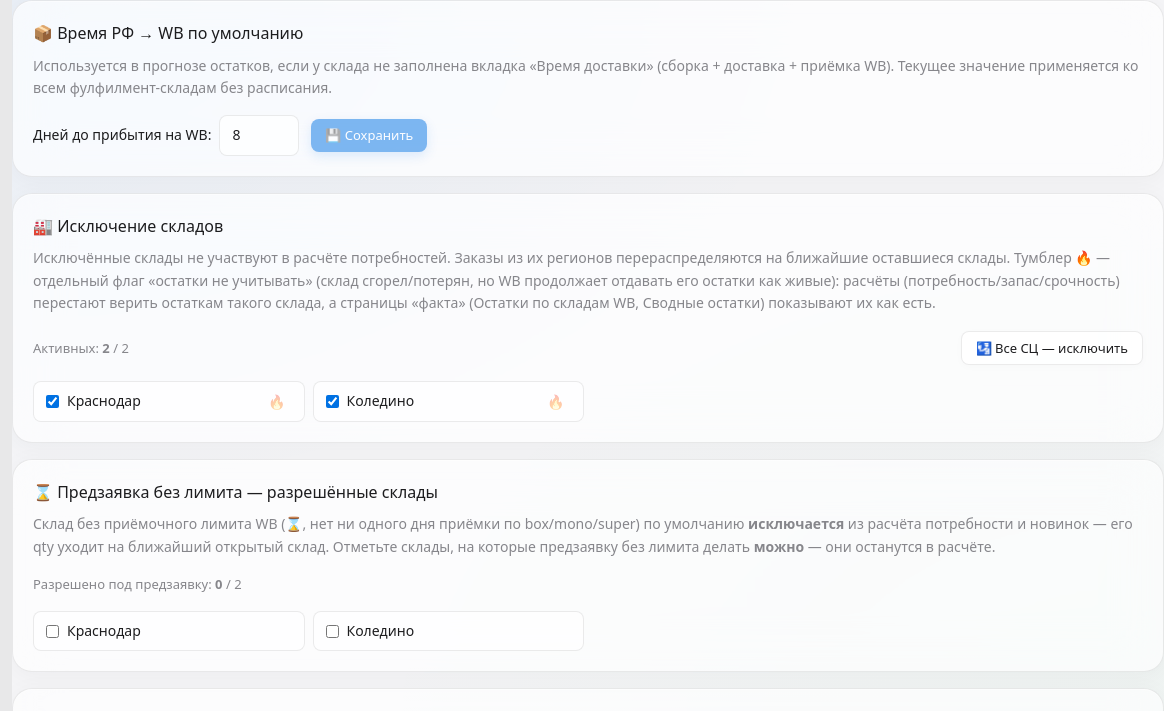
Test: WarehouseExclusionSettings — 🔥 остатки не учитывать › save шлёт setStockIgnoredWarehouses с выбранными складами
This screenshot has width=1164, height=711.
Step 1. Click the 1st button titled "Остатки не учитывать (сгорел/потерян)" → (276, 402), box 260,392 -> 292,412
(page scrolled)
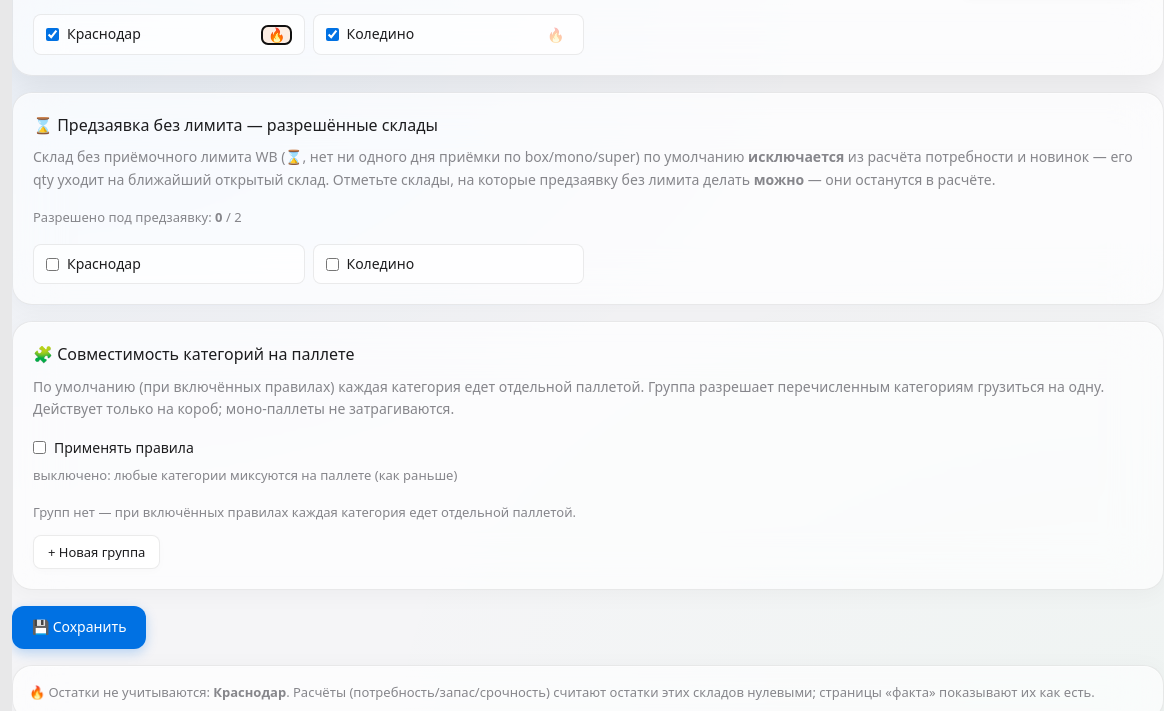
Step 2. Click the button "💾 Сохранить" → (79, 628), box 12,606 -> 146,649
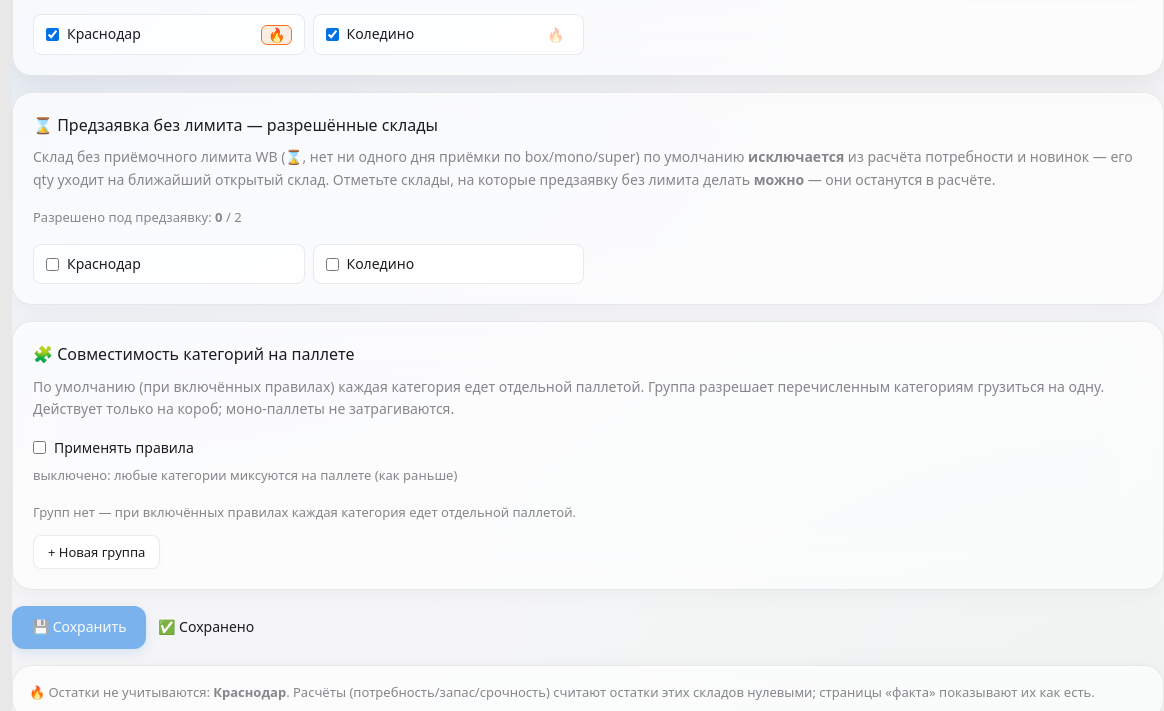
Now the text "✅ Сохранено" is shown, box 158,616 -> 254,639
